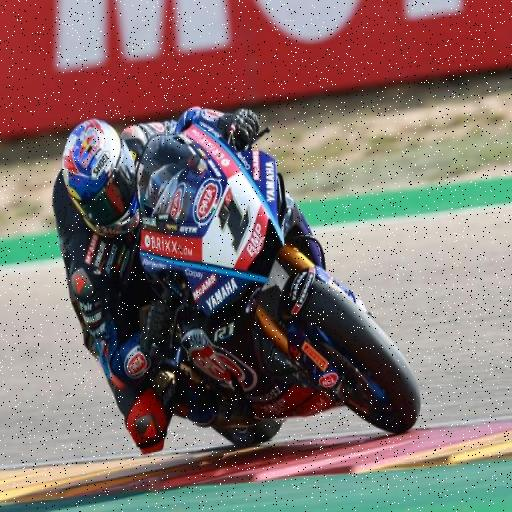Helmet: (52, 122, 150, 241)
